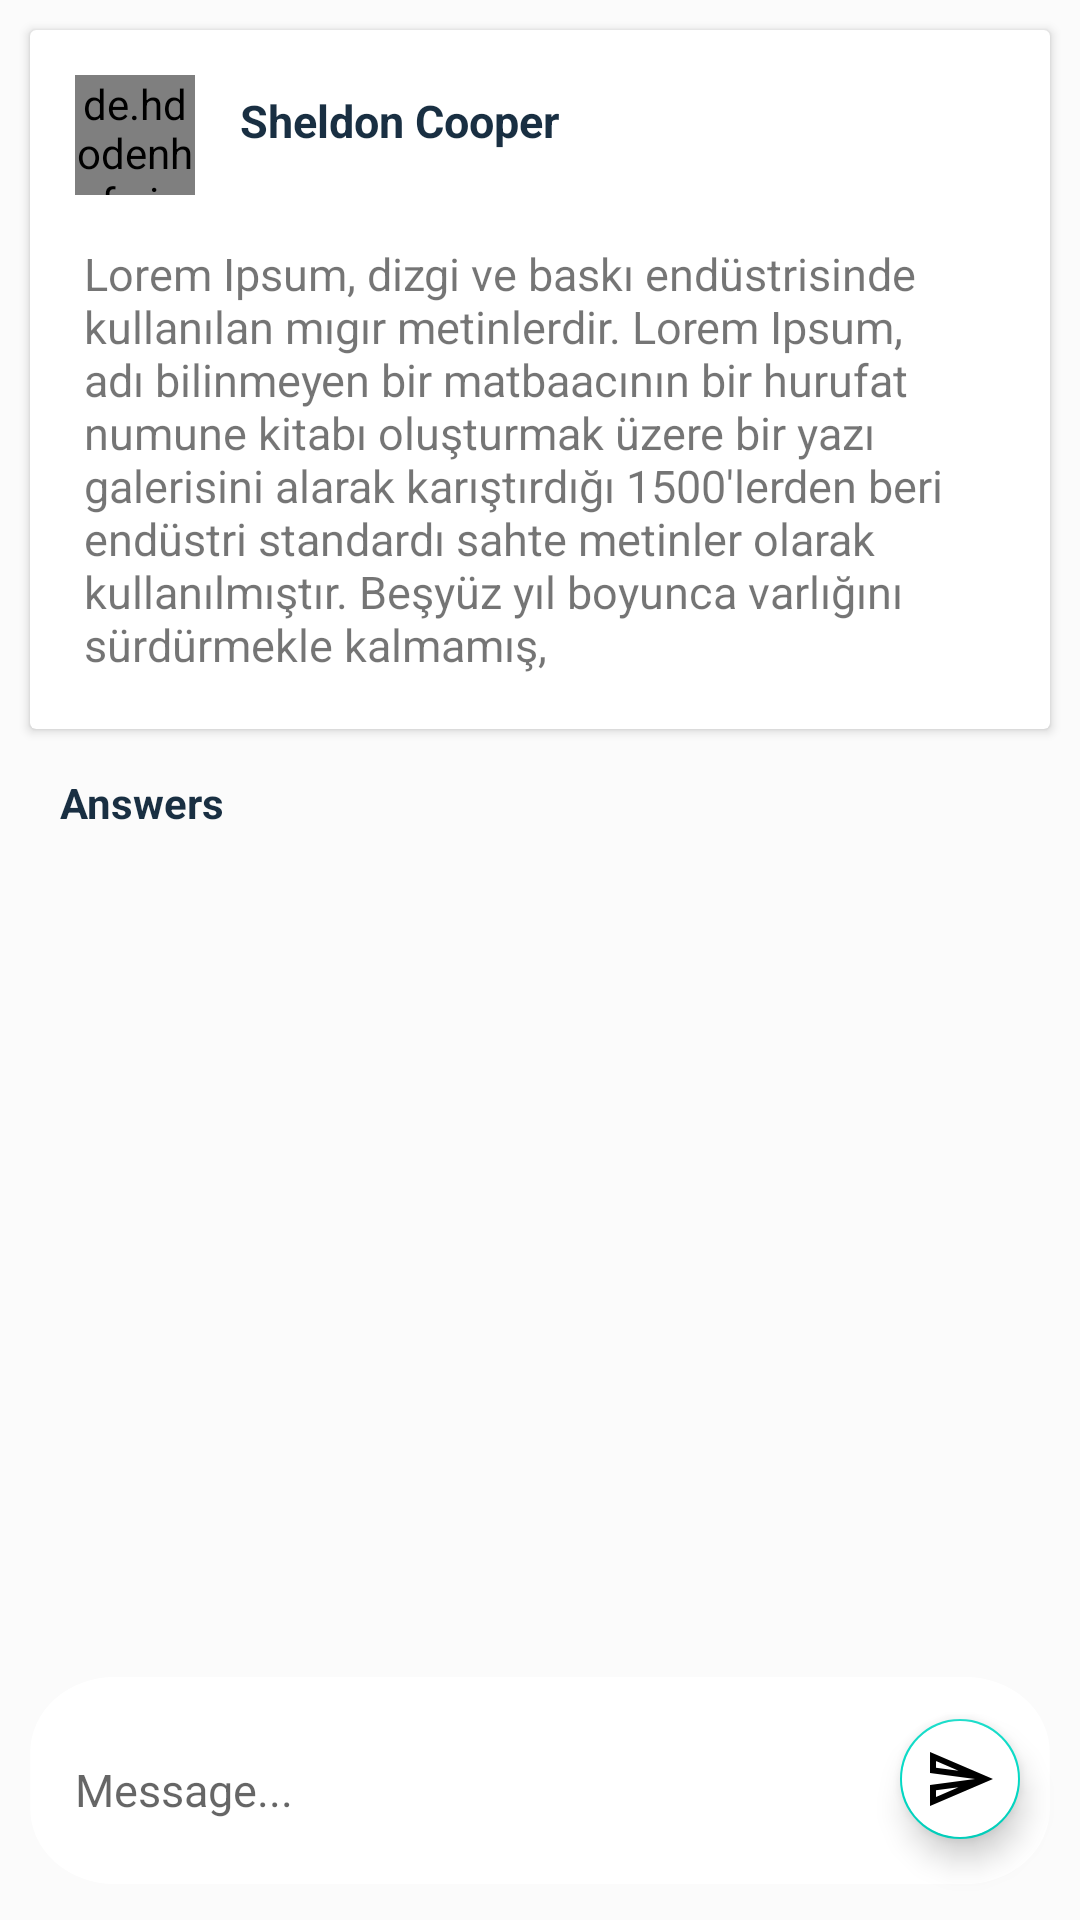

Where to tap for icons on this 1080 x 1920 app screen, as (x=x, y=y):
sent: (x=961, y=1785)
